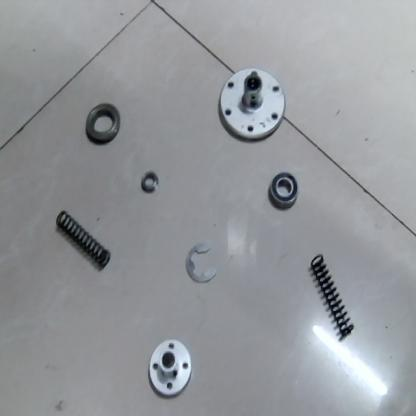FOD: (0, 7, 416, 413), (219, 65, 285, 142), (309, 252, 357, 343), (53, 208, 113, 270), (146, 337, 194, 401), (180, 240, 221, 290), (81, 102, 122, 148), (265, 171, 302, 212), (138, 170, 161, 194)
